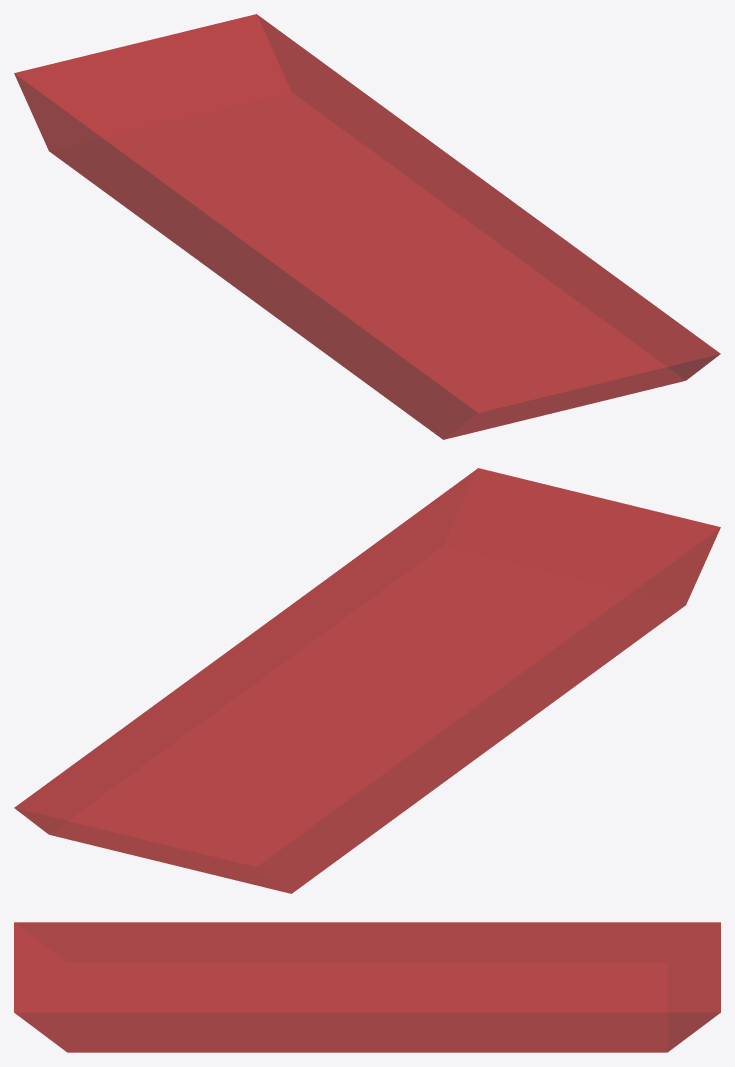
Rendered from SM_Veh_Barge_01_Collision.fbx.
3 views of the same model, one above another, from view 1: azimuth 30°, elevation 25°; view 2: azimuth 150°, elevation 25°; view 3: azimuth 270°, elevation 25° (orthographic). The views are drawn at different scales.
Visible parts, largest first — view 1: SM_Veh_Barge_01_Collision; view 2: SM_Veh_Barge_01_Collision; view 3: SM_Veh_Barge_01_Collision.
Boxes of the visible parts, x1=… form: SM_Veh_Barge_01_Collision: x1=14, y1=14, x2=720, y2=439; SM_Veh_Barge_01_Collision: x1=14, y1=468, x2=720, y2=893; SM_Veh_Barge_01_Collision: x1=14, y1=922, x2=720, y2=1052.
Bounding box in the file's own units: 1009 × 208 × 3343.
